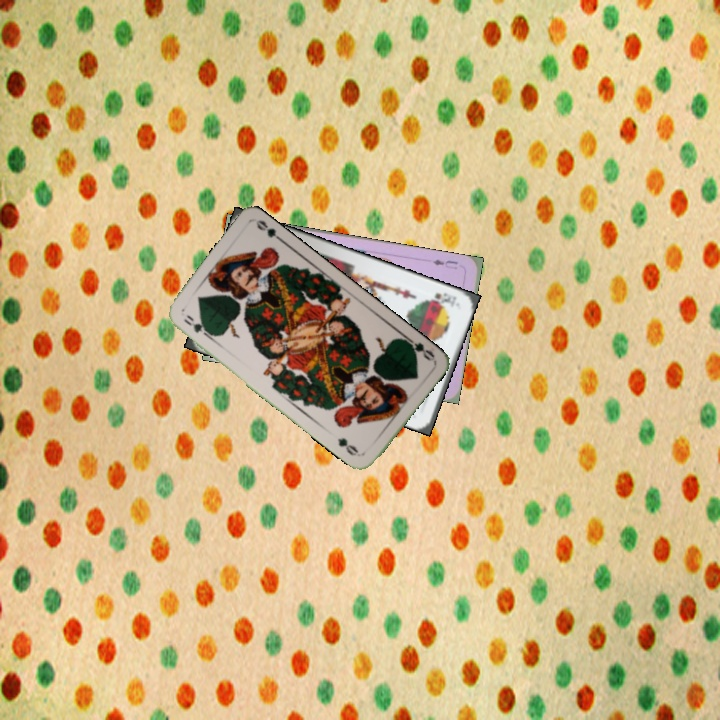EU: (428, 255, 460, 272)
GO: (400, 332, 437, 364), (179, 310, 215, 341)
SK: (427, 289, 459, 310)
